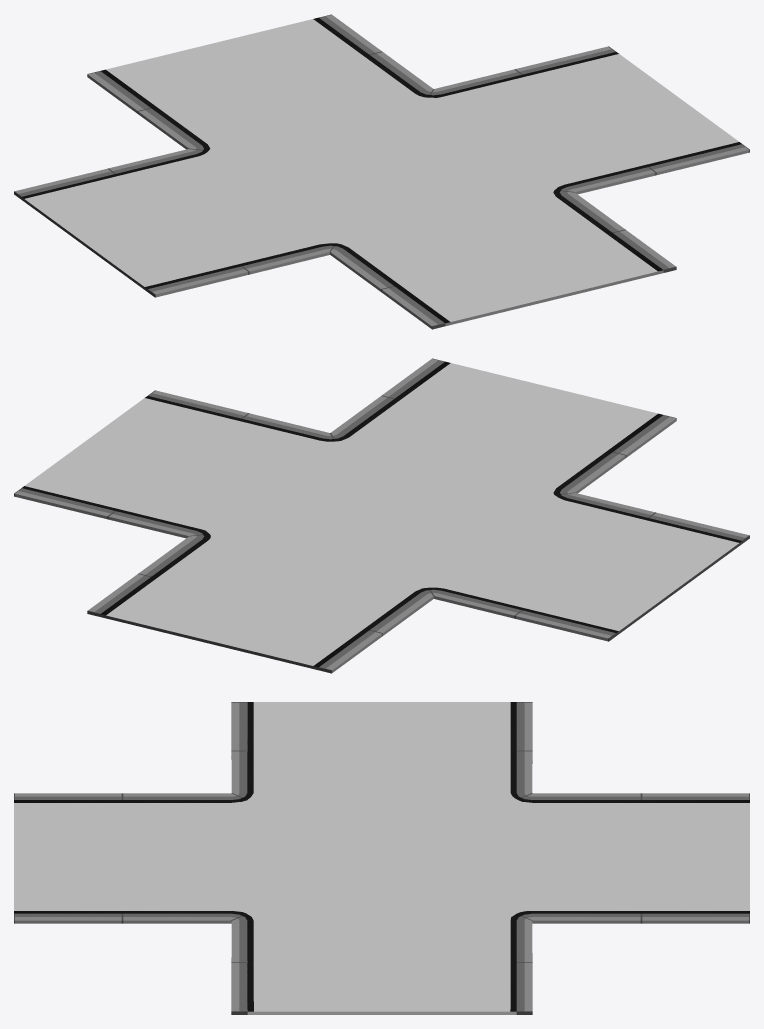
The model's file is Road5.fbx.
The picture shows the model from 3 angles, top to bottom: view 1: azimuth 30°, elevation 25°; view 2: azimuth 150°, elevation 25°; view 3: azimuth 270°, elevation 25°; orthographic projection. The views are drawn at different scales.
Parts seen in each view (by area): view 1: Cube.005; view 2: Cube.005; view 3: Cube.005.
Part boxes in pixels (x1,y1,x2,y2): Cube.005: (14,14,749,329); Cube.005: (14,358,749,673); Cube.005: (14,702,749,1014).
Size of the model in its own units: 1050 by 5 by 1055.
